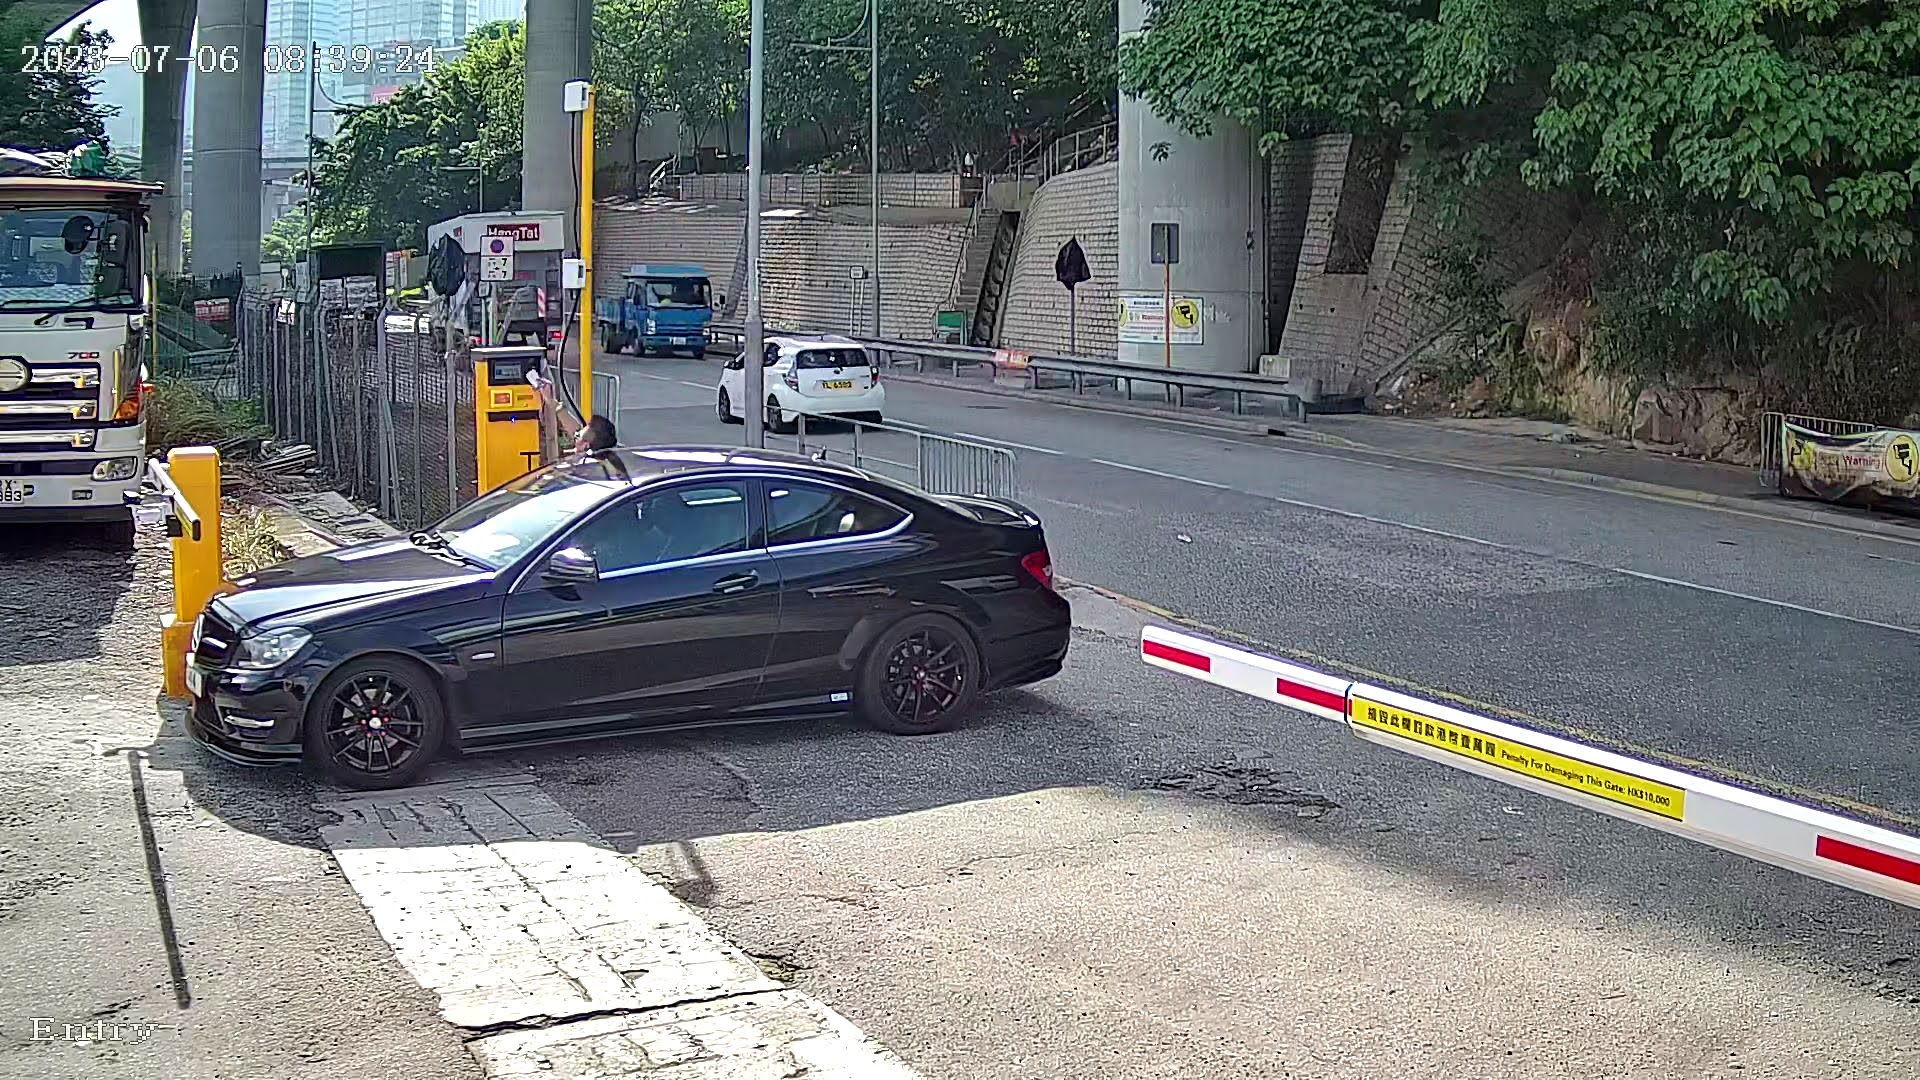privatecar: (131, 404, 1096, 825)
